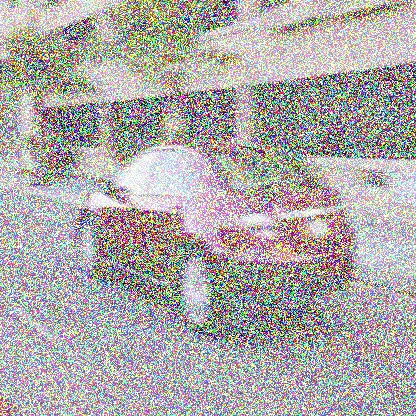Vehicle: (72, 134, 359, 336)
